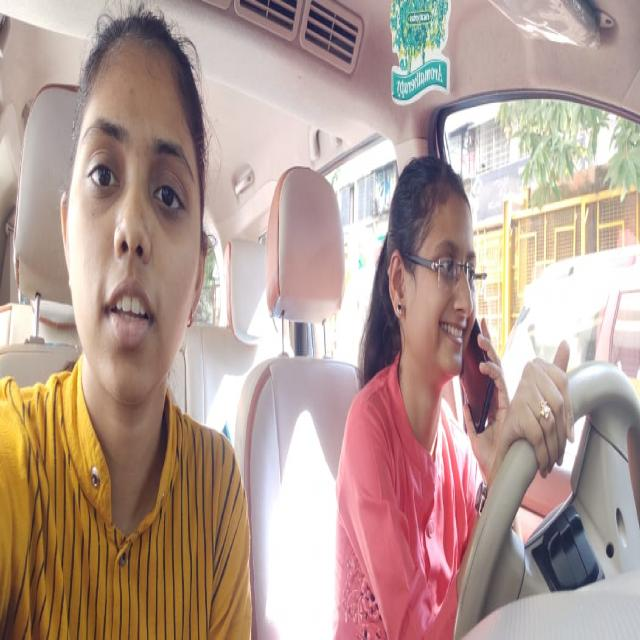mobile: (460, 327, 496, 435)
person: (55, 28, 210, 396), (379, 156, 477, 370)
